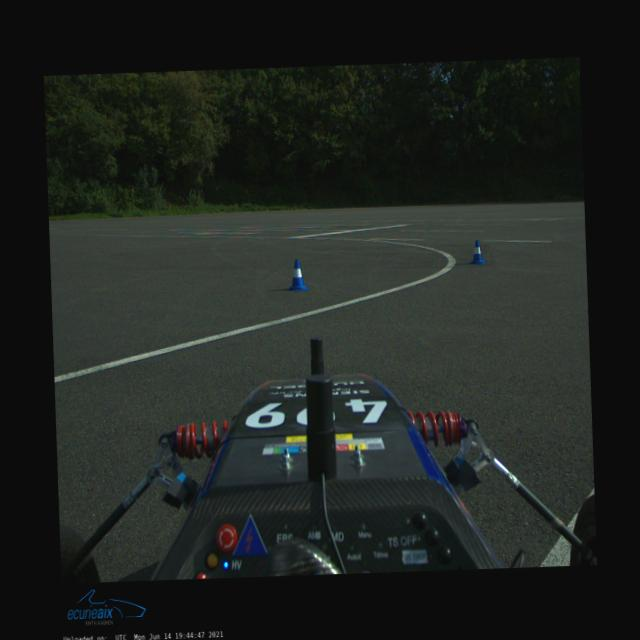blue_cone: (287, 258, 309, 291), (468, 238, 487, 264)
